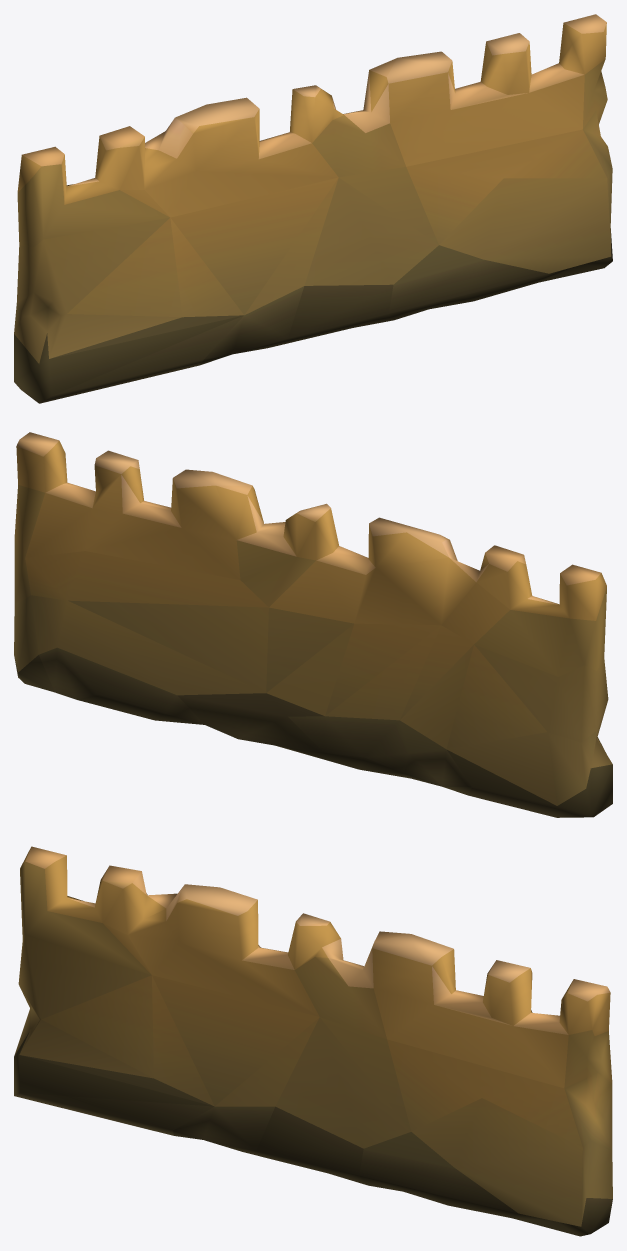
File: G MuroDePiedraMesh.fbx
3 views of the same model, one above another, from view 1: azimuth 30°, elevation 25°; view 2: azimuth 150°, elevation 25°; view 3: azimuth 330°, elevation 25° (orthographic).
Parts seen in each view (by area): view 1: MuroDePiedra; view 2: MuroDePiedra; view 3: MuroDePiedra.
Boxes of the visible parts, <box> form: MuroDePiedra: <box>14,14,612,403</box>; MuroDePiedra: <box>14,432,612,817</box>; MuroDePiedra: <box>14,846,612,1236</box>.
Size of the model in its own units: 1487 by 596 by 137.
1 material, 1 textured.
